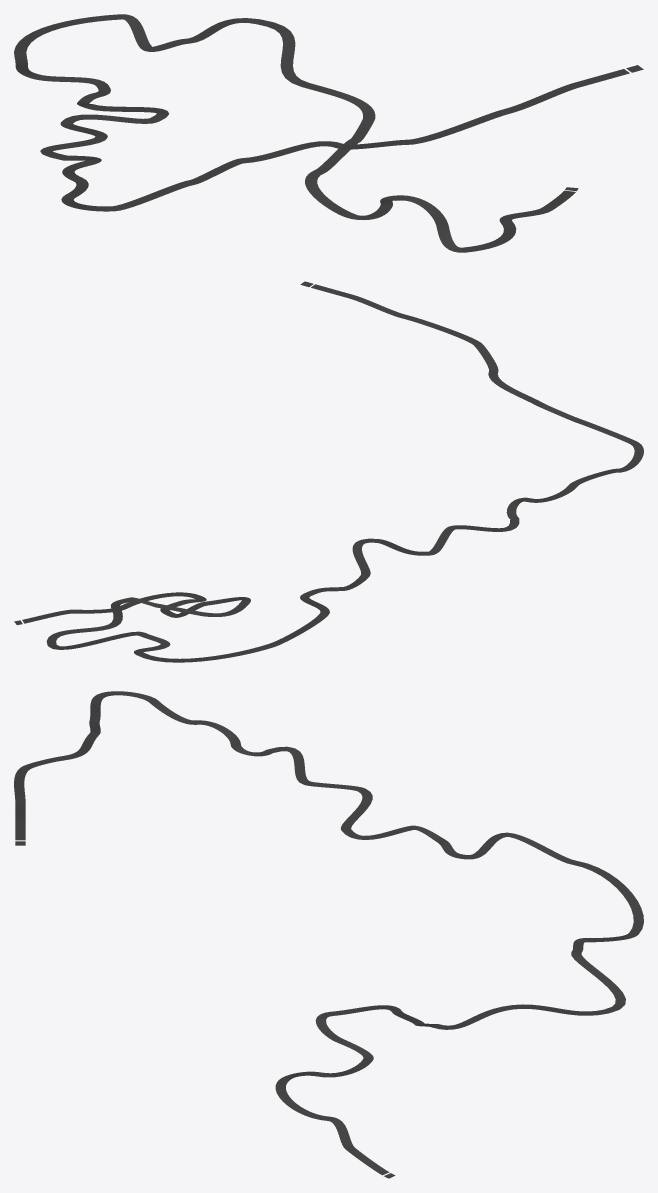
The picture shows the model from 3 angles, top to bottom: view 1: azimuth 30°, elevation 25°; view 2: azimuth 150°, elevation 25°; view 3: azimuth 270°, elevation 25°; orthographic projection. The views are drawn at different scales.
Visible parts, largest first — view 1: Road; view 2: Road; view 3: Road.
Part boxes in pixels (x1=…): Road: x1=14, y1=14, x2=643, y2=252; Road: x1=14, y1=281, x2=643, y2=662; Road: x1=14, y1=691, x2=643, y2=1178.
Bounding box in the file's own units: 8261 × 3809 × 8098.
